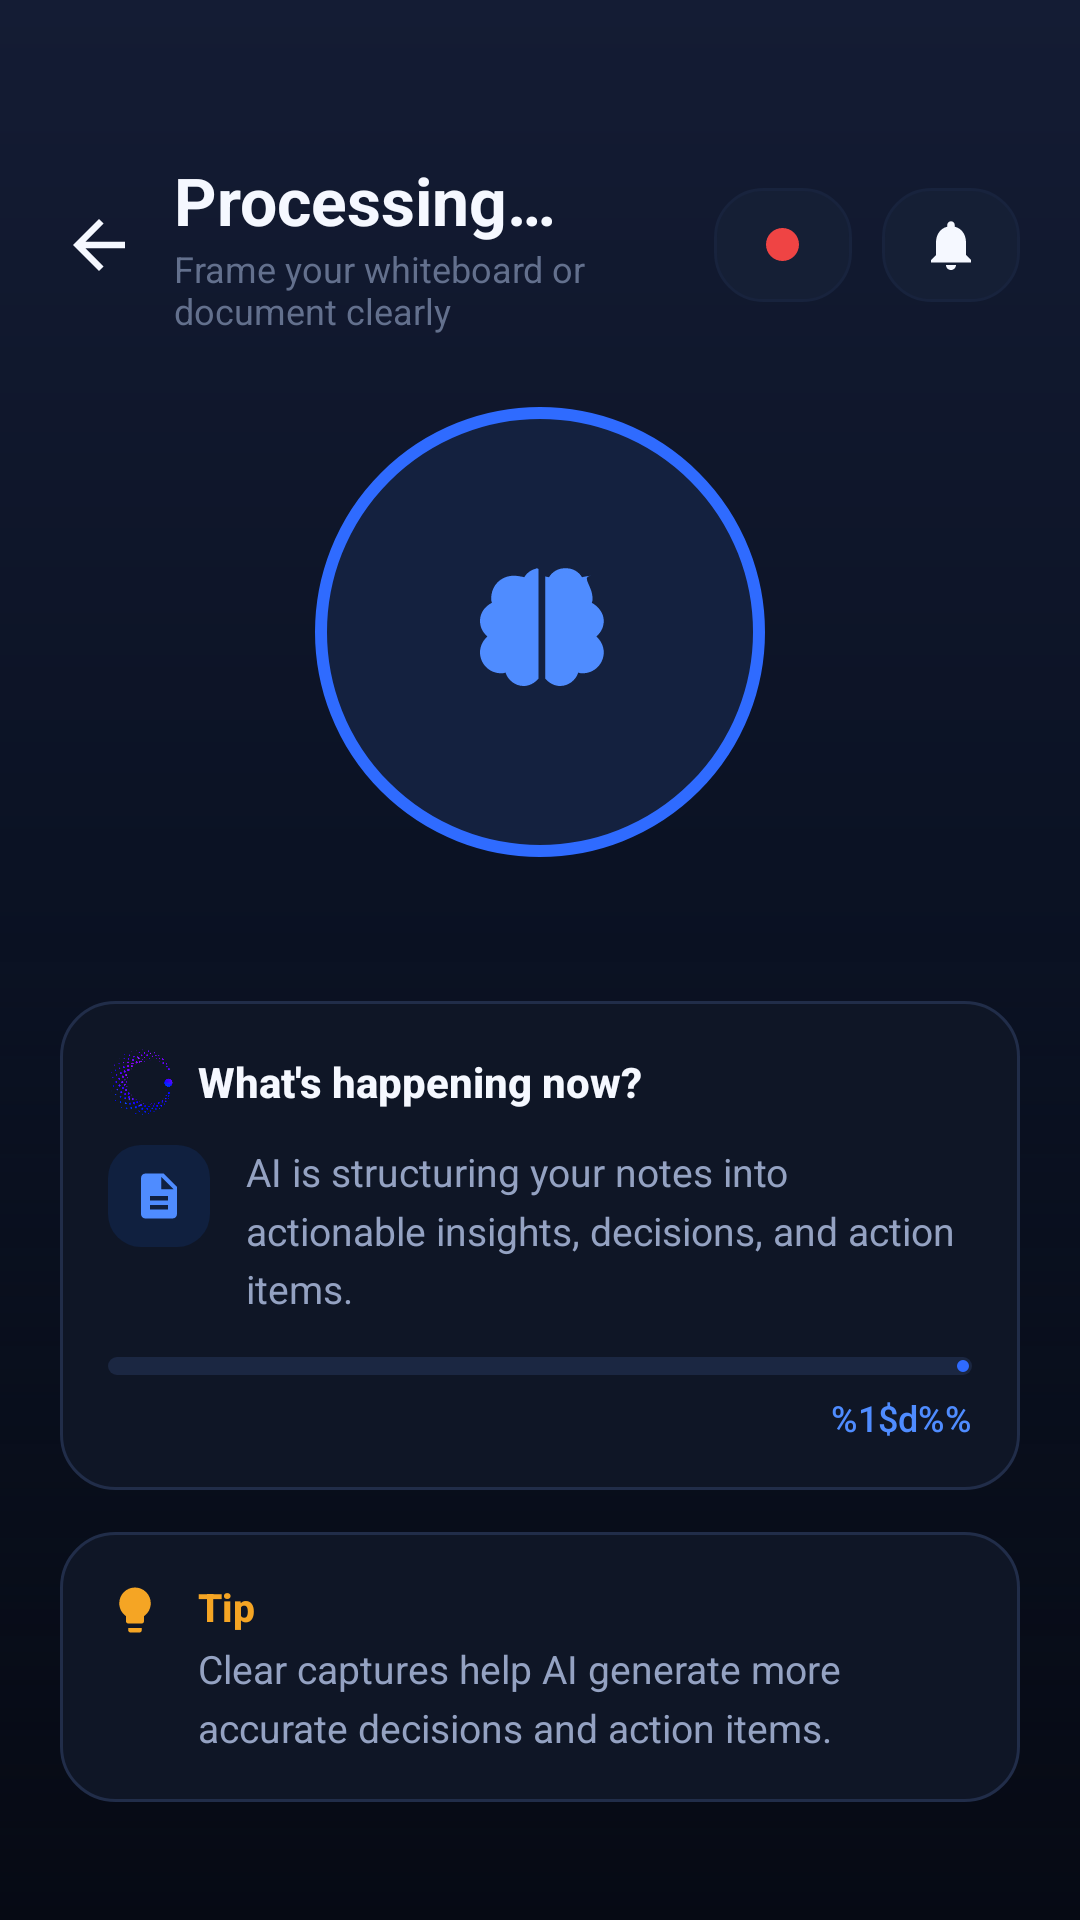

Icon bounding boxes for this 1080*1920 phone screenshot, format (x1, y1, x2, y2):
arrow back: (73, 219, 125, 271)
bell: (931, 221, 971, 270)
brain: (480, 568, 604, 686)
bulb: (119, 1587, 151, 1633)
file: (141, 1173, 177, 1219)
